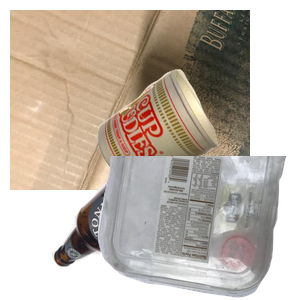cardboard: (10, 10, 250, 190)
glass: (49, 145, 229, 300)
plastic: (95, 156, 300, 300)
trash: (95, 67, 300, 238)
